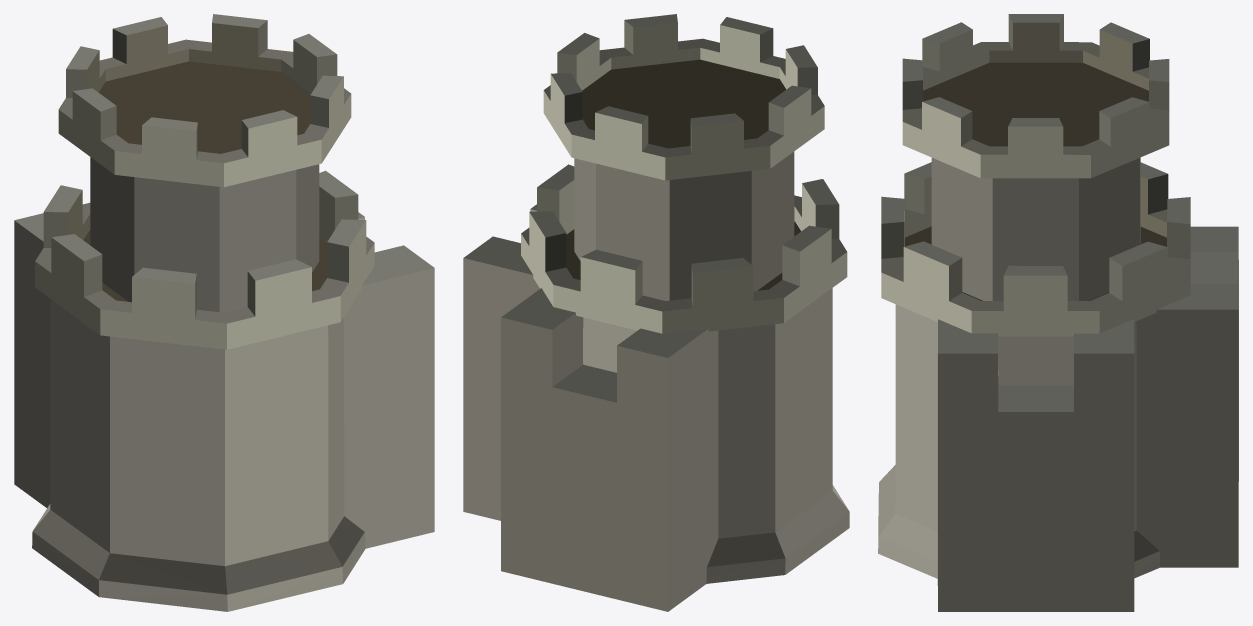
File: castle13.fbx
The picture shows the model from 3 angles, left to right: view 1: azimuth 30°, elevation 25°; view 2: azimuth 150°, elevation 25°; view 3: azimuth 270°, elevation 25°; orthographic projection. The views are drawn at different scales.
Parts seen in each view (by area): view 1: castle13; view 2: castle13; view 3: castle13.
Part boxes in pixels (bbox=[...]): castle13: bbox=[14, 14, 434, 611]; castle13: bbox=[463, 14, 849, 611]; castle13: bbox=[878, 14, 1238, 611].
Bounding box in the file's own units: 1.8 × 2.51 × 1.8.
1 material, 1 textured.
